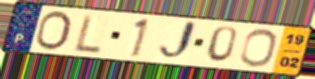0: (203, 25, 240, 64)
1: (129, 18, 151, 59)
J: (156, 19, 200, 63)
L: (74, 12, 103, 54)
O: (32, 9, 74, 52), (238, 27, 279, 68)
